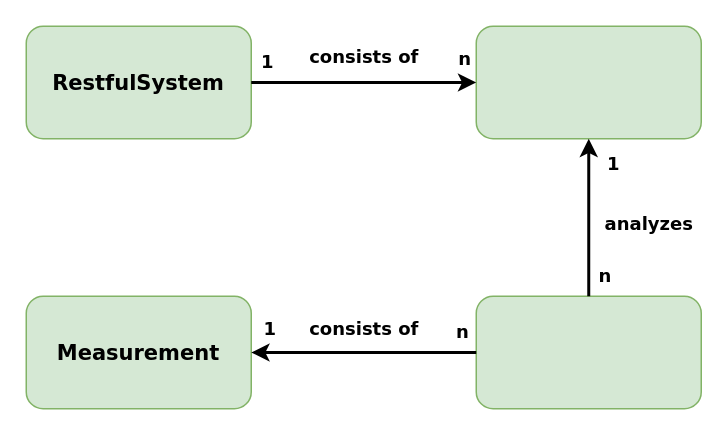
Some shapes in this 728 by 435 pixel diagram are drawn without their labels. Each missing label, with the centre of its shape:
"Evaluation" belongs at point 588,352.
"RestfulService" belongs at point 588,82.
